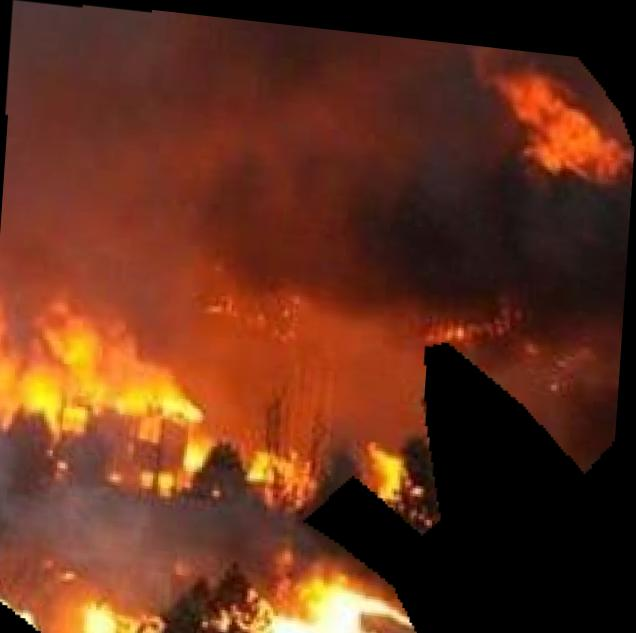fire: (0, 1, 635, 633)
